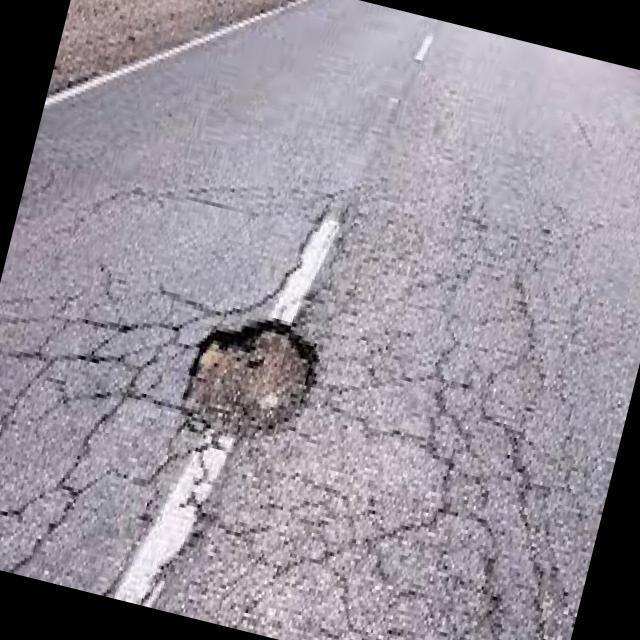Pothole: (182, 321, 317, 443)
